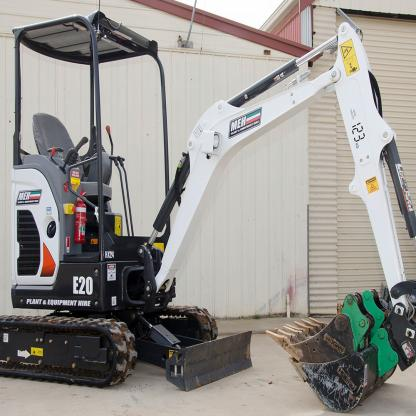excavator: (8, 6, 404, 392)
